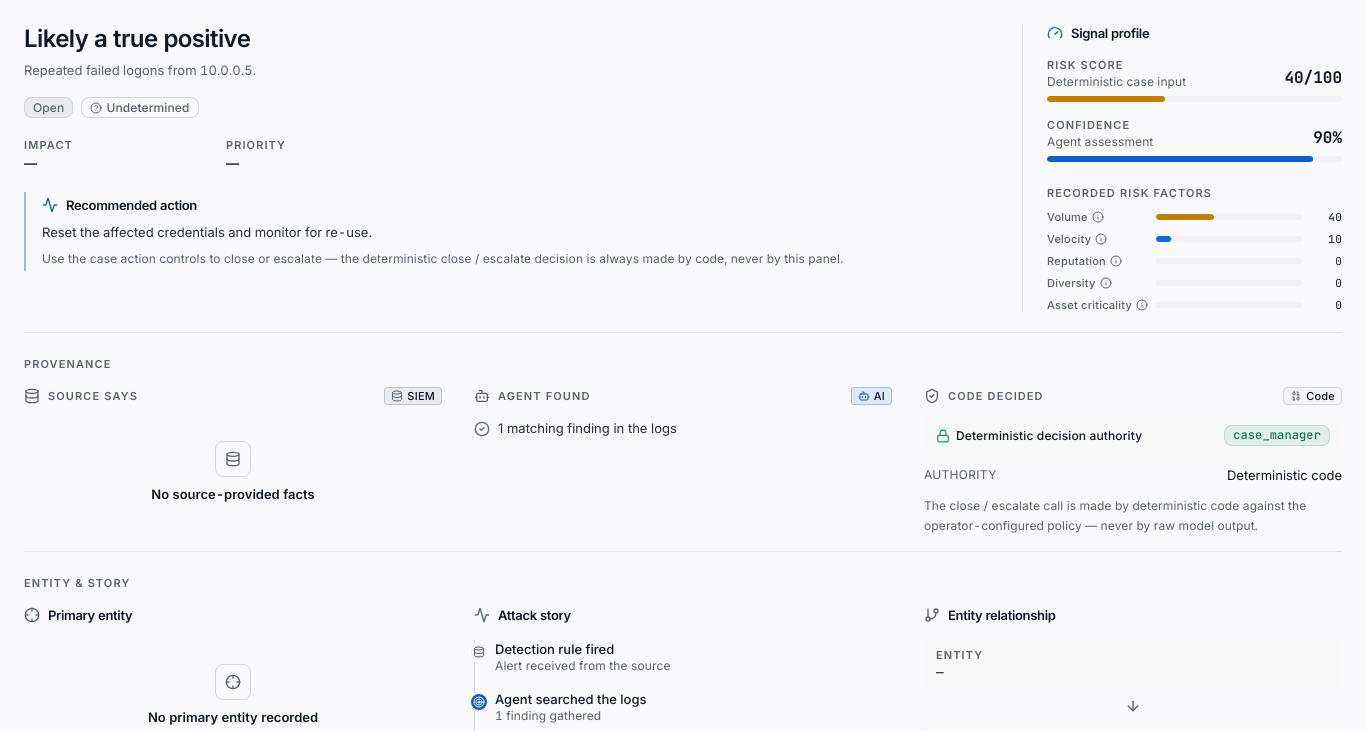
Scenario: OverviewPanel — embedded Case Manager composition › explains a factor on hover using the recorded score without inventing provider data
The width and height of the screenshot is (1366, 731).
Hover over the button with aria-label "Explain Reputation risk factor, recorded 0 out of 100": x=1098, y=261 [1047, 254, 1148, 268]
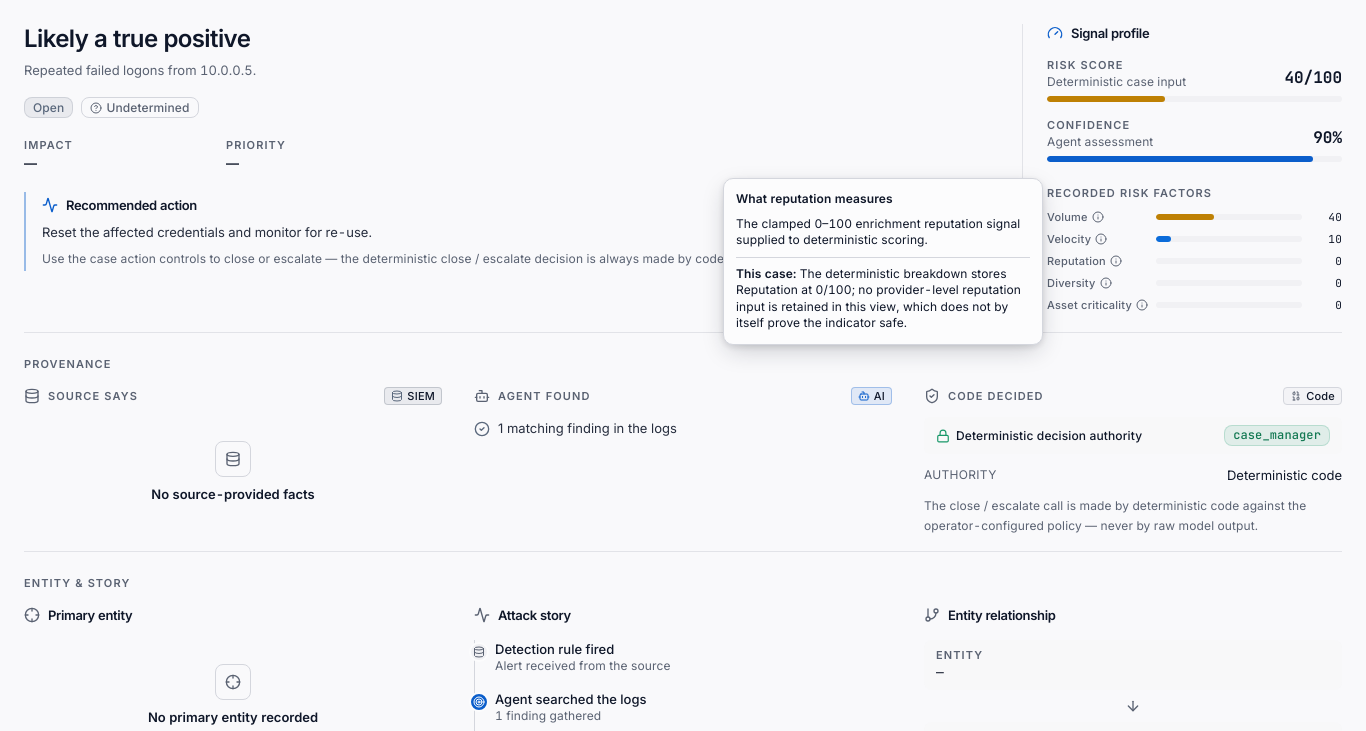
Expected: the tooltip shows "clamped 0–100 enrichment reputation signal", [736, 216, 1020, 247]
Expected: the tooltip shows "deterministic breakdown stores Reputation at 0/100", [736, 266, 1021, 330]
Expected: the tooltip shows "no provider-level reputation input is retained", [736, 266, 1021, 330]
